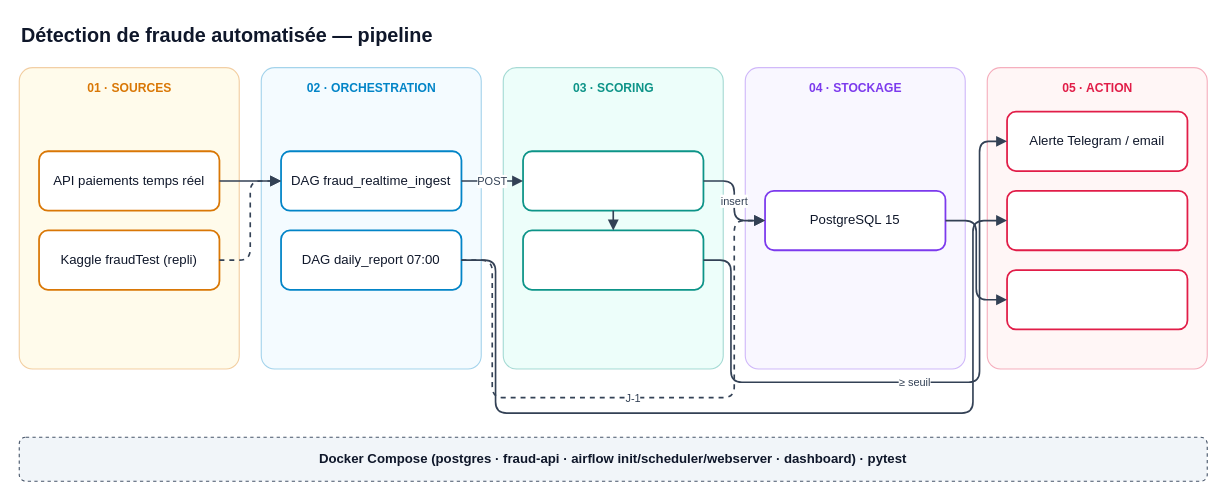
Image size: 1227x501. Some labels were removed from this diagram. Here are the shapes that lost their labels. From the top down, the box of each, then its label:
(522, 150, 704, 211): FastAPI /predict
(1006, 189, 1188, 251): Rapport HTML quotidien
(522, 229, 704, 290): XGBoost + seuil 0,7
(1006, 269, 1188, 330): Dashboard Streamlit
